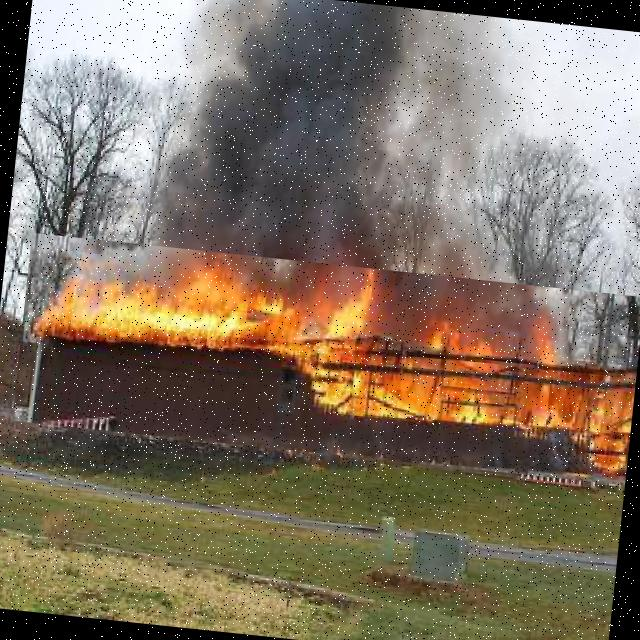fire: (12, 232, 640, 484)
